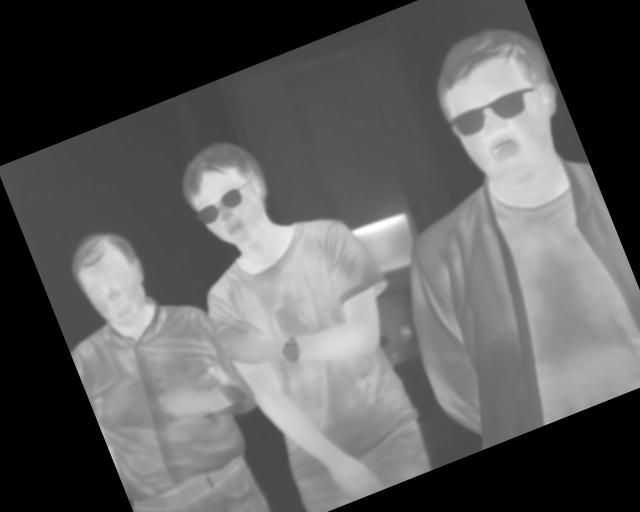face: (418, 12, 583, 200), (166, 129, 283, 257), (61, 220, 161, 339)
